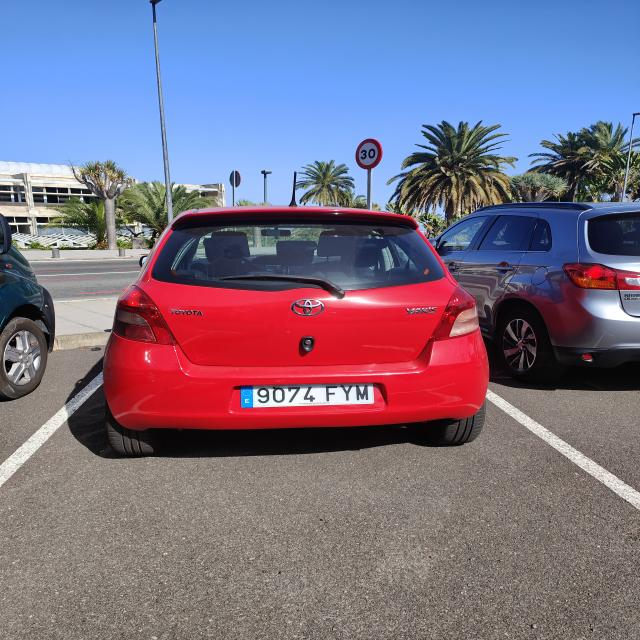License-Plate: (240, 382, 374, 408)
